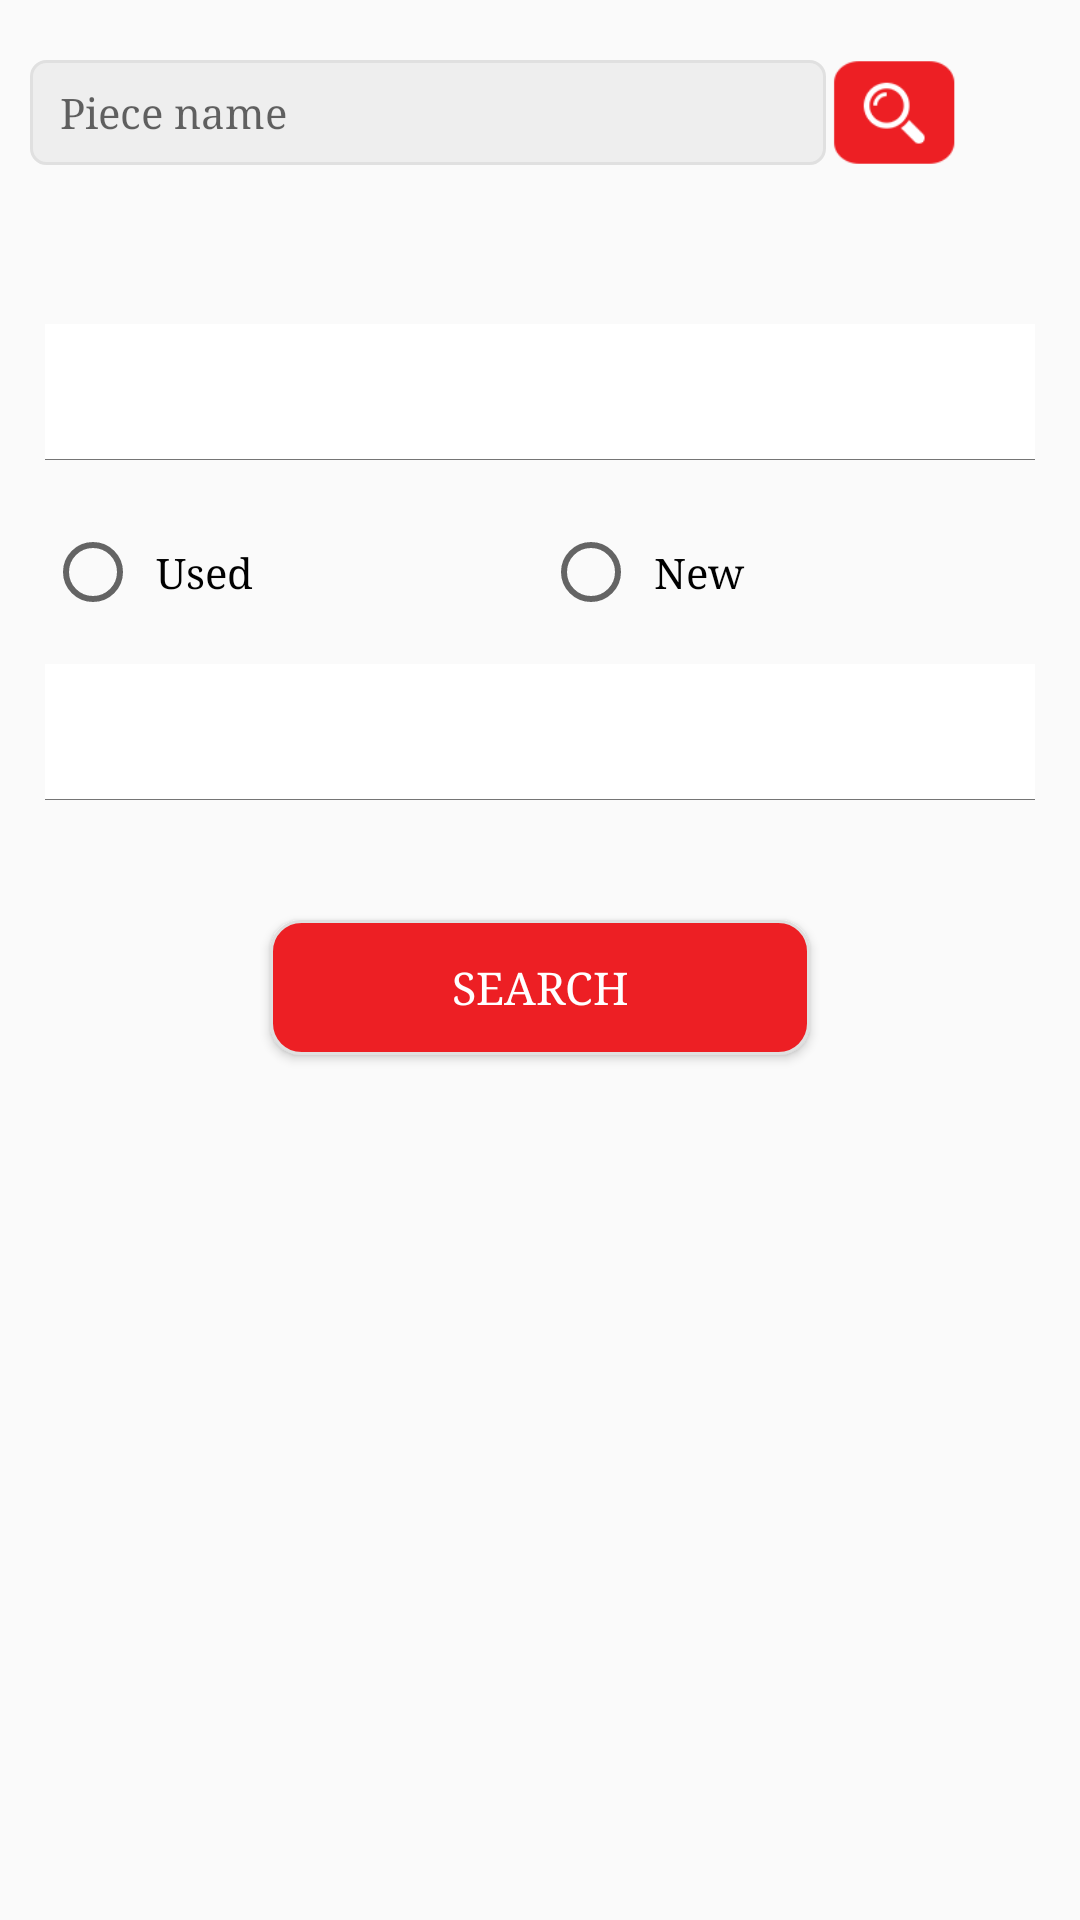

Screen size 1080 x 1920. Icon name, then its center in pixels as point (x, y):
searchred: point (894, 112)
